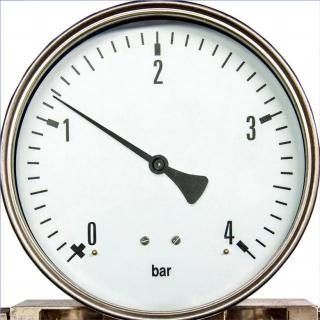gauge: (1, 3, 318, 320), (62, 228, 98, 267), (222, 226, 256, 262), (147, 152, 169, 176), (48, 91, 62, 104)
